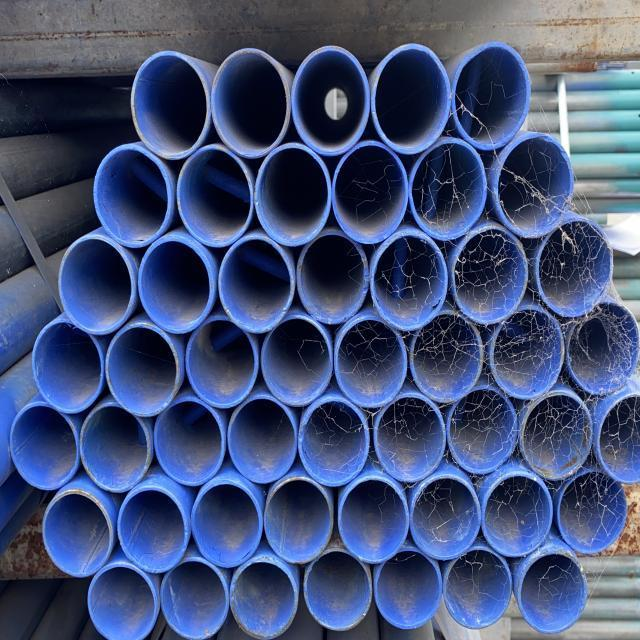pipe: (372, 42, 452, 156), (210, 48, 290, 160), (291, 45, 370, 158), (90, 143, 172, 251), (131, 50, 210, 162), (452, 42, 530, 152), (494, 134, 574, 240), (332, 140, 410, 248), (56, 234, 136, 338), (177, 144, 255, 250), (218, 232, 296, 336), (256, 145, 332, 251), (135, 234, 213, 336), (412, 138, 488, 242), (536, 220, 615, 320), (371, 230, 448, 332), (452, 225, 528, 327), (567, 300, 640, 397), (492, 304, 564, 402), (31, 320, 105, 414), (184, 316, 258, 410), (334, 316, 408, 410), (106, 325, 180, 418), (296, 231, 369, 325), (371, 392, 447, 482), (260, 314, 334, 406), (78, 402, 152, 494), (412, 313, 484, 407), (298, 396, 370, 490), (189, 478, 264, 568), (225, 396, 298, 486), (41, 489, 114, 579), (481, 470, 554, 560), (522, 392, 594, 481), (447, 388, 518, 478), (338, 476, 410, 564), (10, 402, 80, 492), (442, 545, 516, 630), (556, 470, 630, 554), (153, 400, 224, 487), (118, 486, 188, 574), (410, 473, 480, 561), (517, 552, 591, 635), (302, 548, 372, 634), (162, 556, 231, 640), (266, 479, 334, 564), (86, 561, 159, 640), (229, 557, 298, 640), (374, 549, 442, 631), (598, 393, 640, 486)
